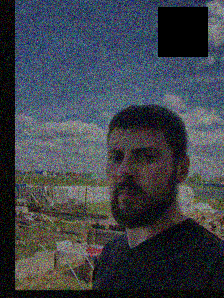without_mask: (104, 137, 171, 230)
